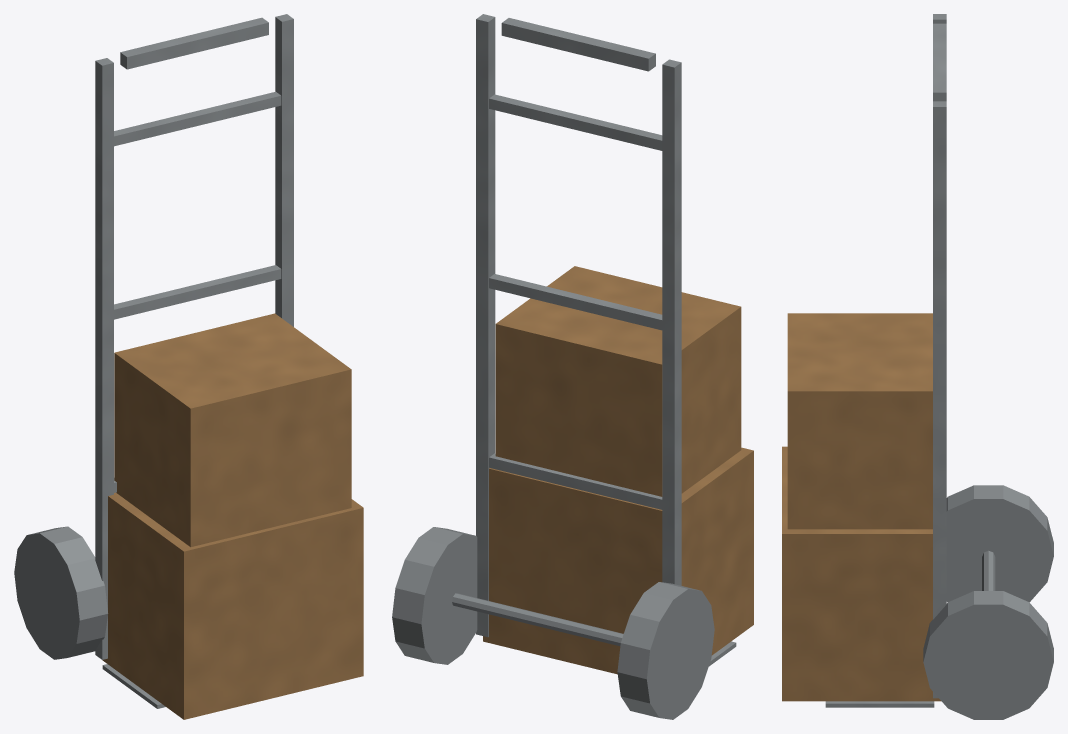
File: BayHandTruck.fbx
The picture shows the model from 3 angles, left to right: view 1: azimuth 30°, elevation 25°; view 2: azimuth 150°, elevation 25°; view 3: azimuth 270°, elevation 25°; orthographic projection. The views are drawn at different scales.
Visible parts, largest first — view 1: BayHandTruck_Body; view 2: BayHandTruck_Body; view 3: BayHandTruck_Body.
Boxes of the visible parts, x1=… form: BayHandTruck_Body: x1=14, y1=14, x2=363, y2=719; BayHandTruck_Body: x1=392, y1=14, x2=753, y2=719; BayHandTruck_Body: x1=782, y1=14, x2=1053, y2=719.
Size of the model in its own units: 0.52 by 1.23 by 0.5.
2 materials, 2 textured.
